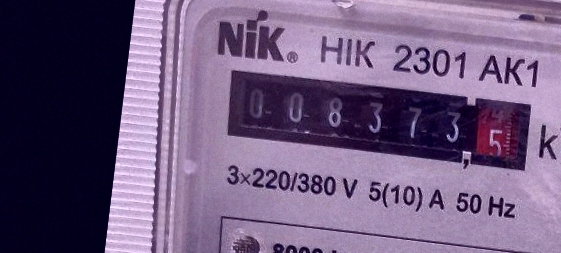0: (244, 83, 268, 121), (284, 87, 307, 125)
3: (439, 106, 466, 146), (362, 97, 387, 136)
4: (487, 104, 507, 126)
5: (484, 125, 507, 157)
7: (402, 101, 424, 142)
8: (322, 92, 348, 130)
screen: (216, 60, 542, 184)
